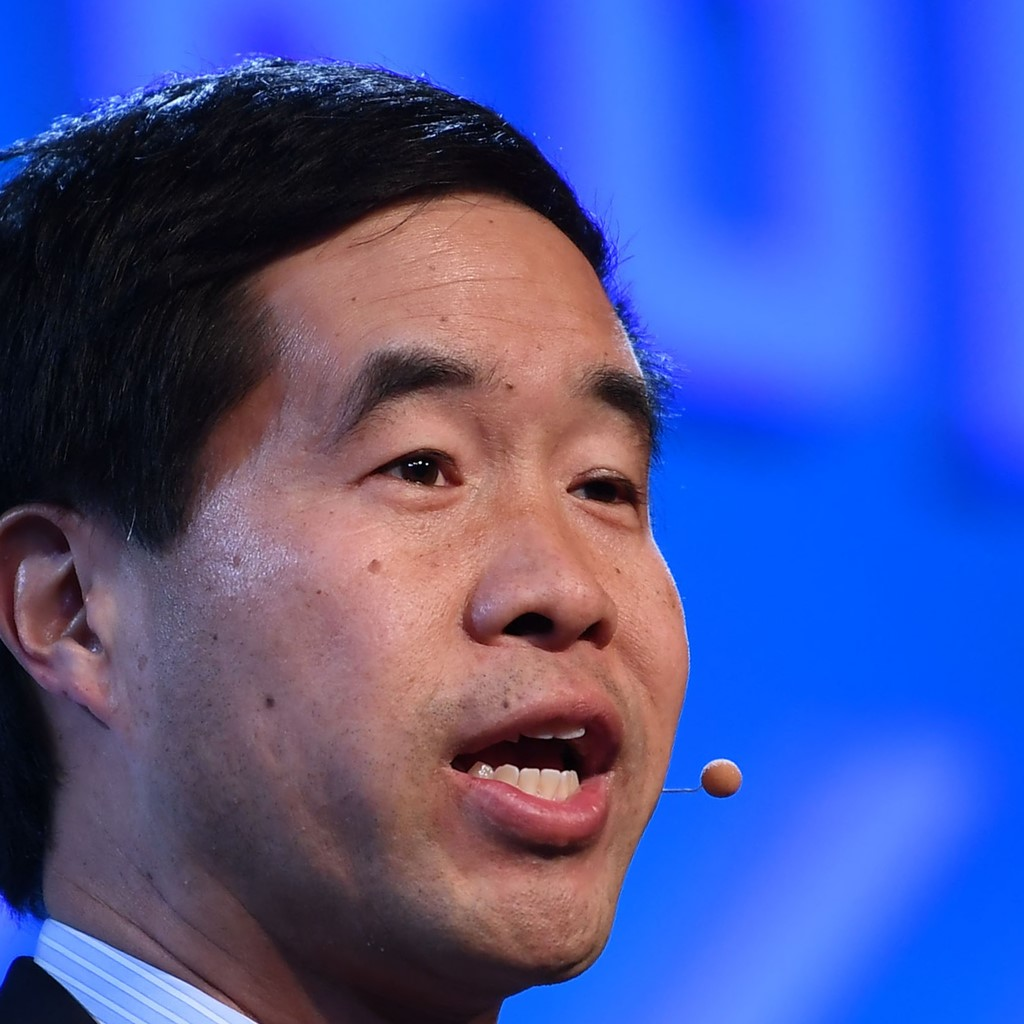sin_mascara: (25, 115, 667, 990)
